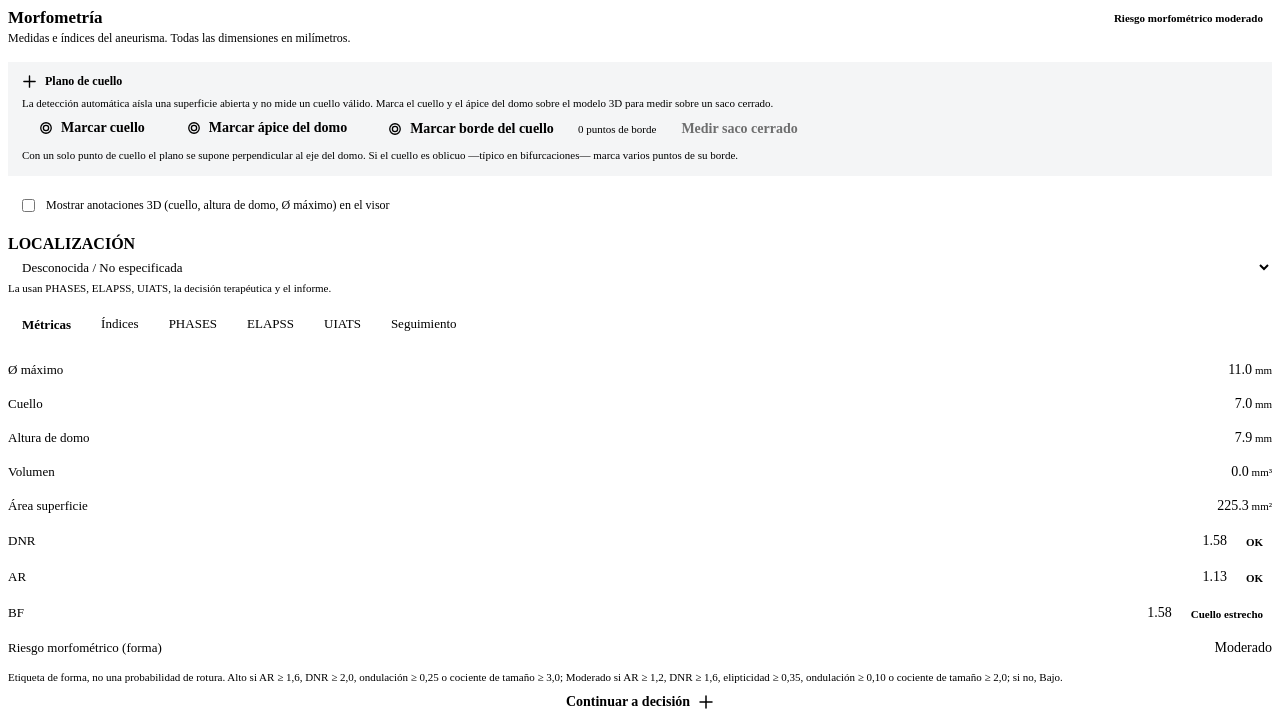
Test: un umbral por índice, a la vista › «Undulación» pasa a «Ondulación» (F1-163)
Click the button "Índices" at (120, 325), box [87, 308, 153, 342]
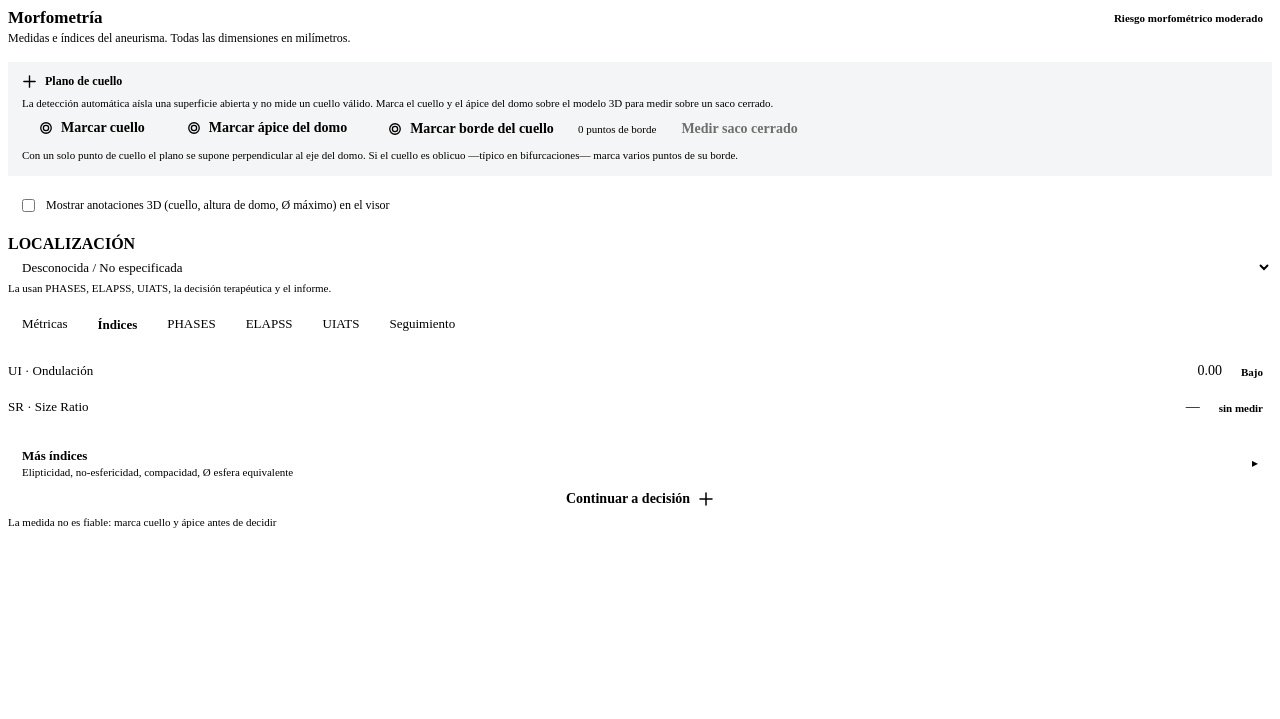
Result: the text "UI · Ondulación" is shown at [8, 363, 93, 379]
